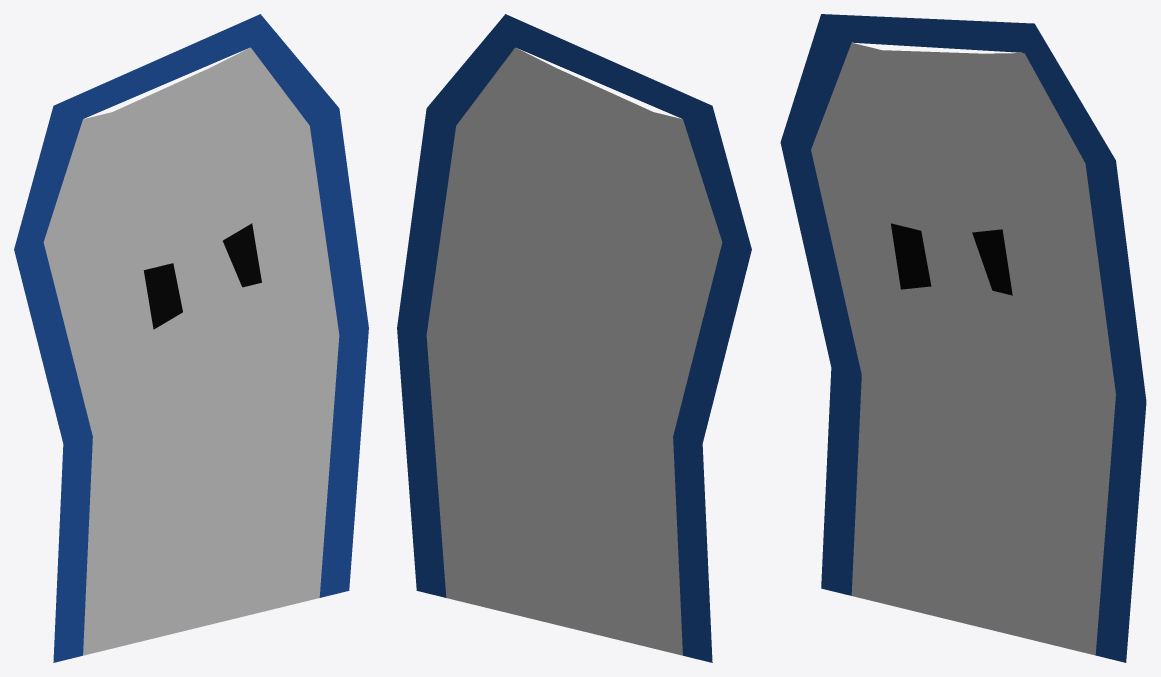
Rendered from hump.obj.
The picture shows the model from 3 angles, left to right: view 1: azimuth 30°, elevation 25°; view 2: azimuth 150°, elevation 25°; view 3: azimuth 330°, elevation 25°; orthographic projection. The views are drawn at different scales.
Size of the model in its own units: 0.036 by 0.058 by 0.002.
